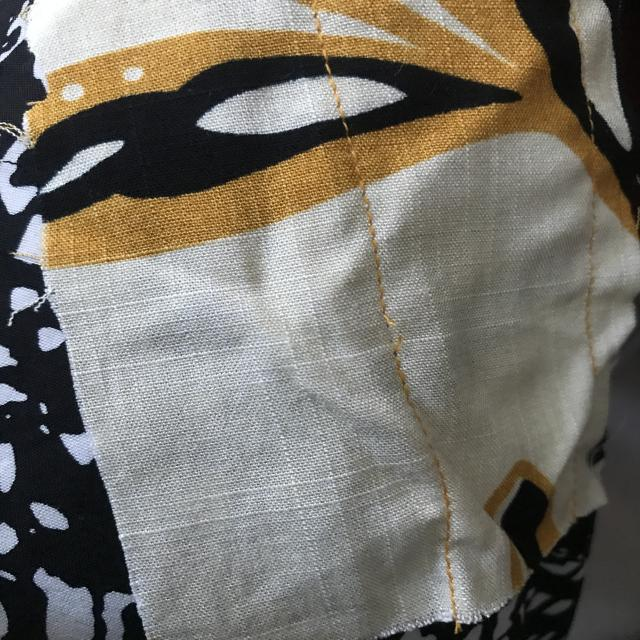broken: (371, 304, 437, 366)
